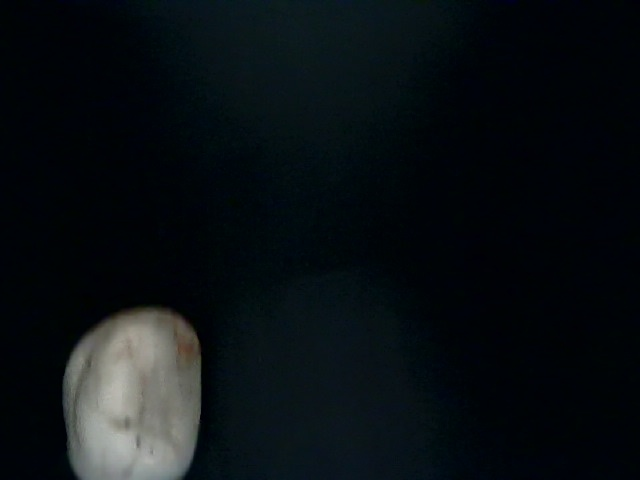QTLJ: (89, 25, 344, 240)
